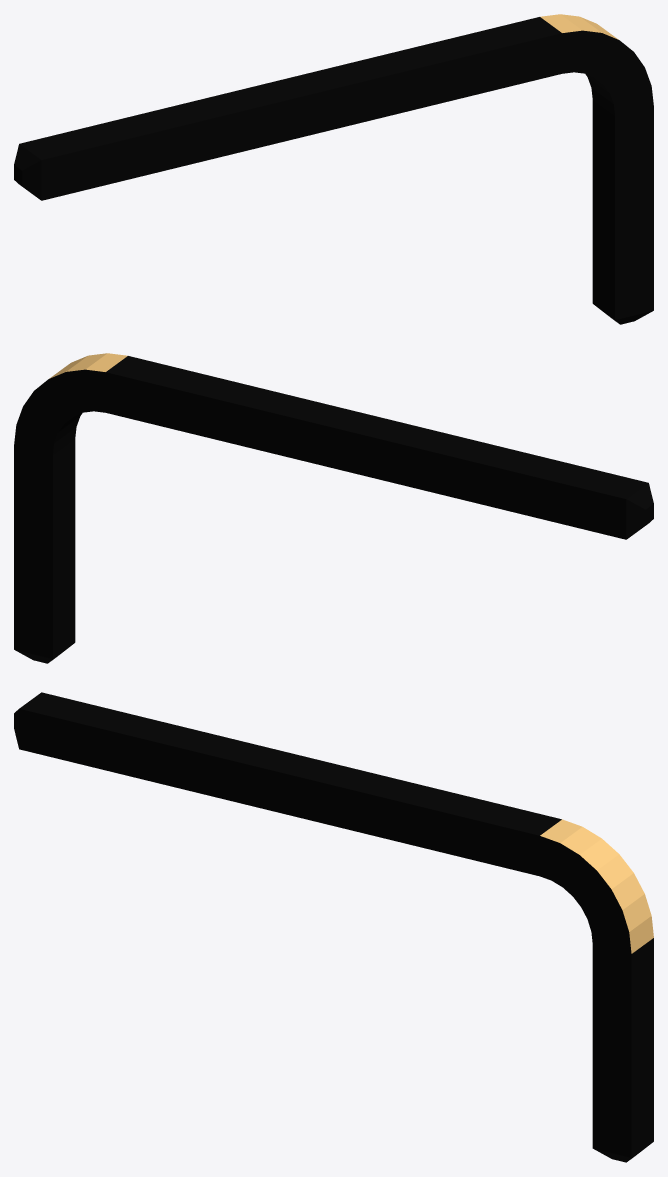
3 renders of one model, top to bottom at view 1: azimuth 30°, elevation 25°; view 2: azimuth 150°, elevation 25°; view 3: azimuth 330°, elevation 25°, orthographic.
Visible parts, largest first — view 1: 3M_9612xx-5604-AR; view 2: 3M_9612xx-5604-AR; view 3: 3M_9612xx-5604-AR.
Part boxes in pixels (bbox=[...]): 3M_9612xx-5604-AR: bbox=[14, 14, 653, 324]; 3M_9612xx-5604-AR: bbox=[14, 353, 653, 663]; 3M_9612xx-5604-AR: bbox=[14, 692, 653, 1162].
Size of the model in its own units: 0.0238 by 0.0114 by 0.00148.
